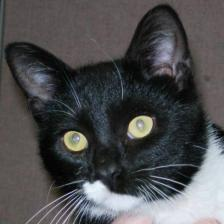cat: (8, 3, 214, 215)
